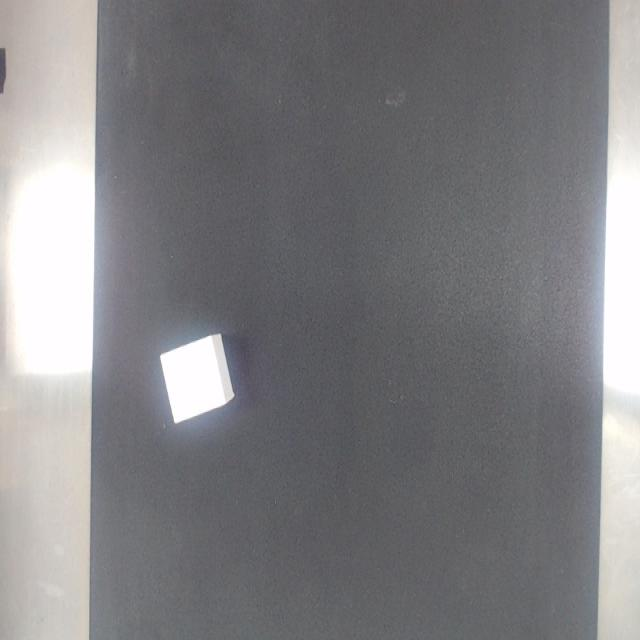Blanco: (160, 333, 234, 423)
